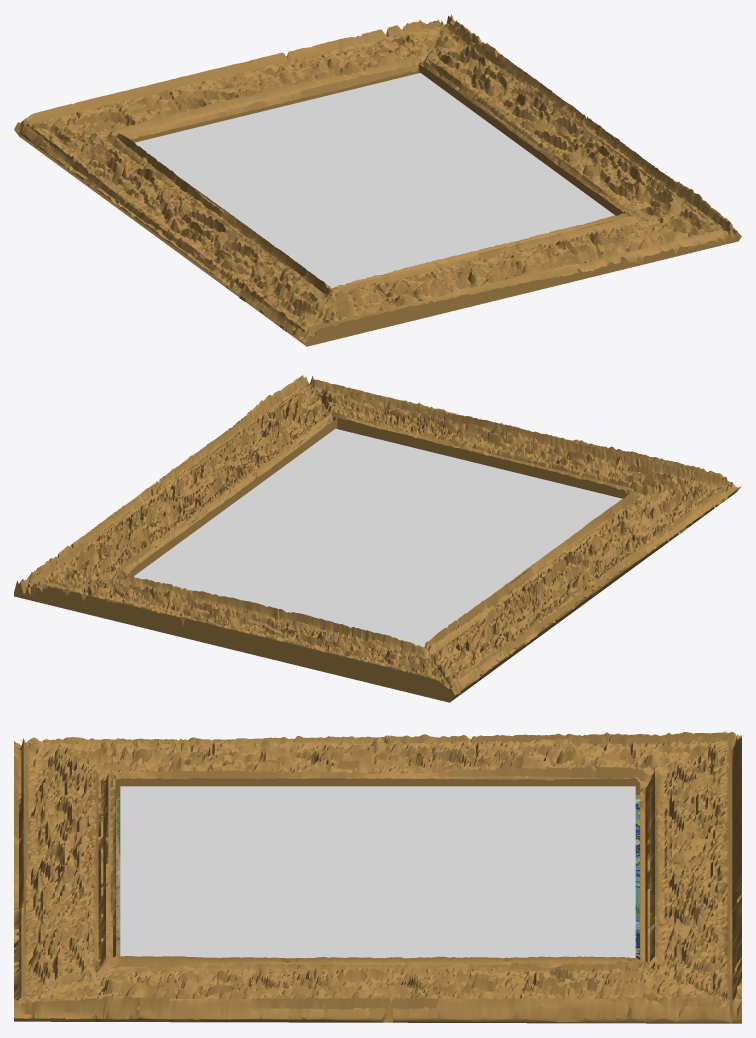
The picture shows the model from 3 angles, top to bottom: view 1: azimuth 30°, elevation 25°; view 2: azimuth 150°, elevation 25°; view 3: azimuth 270°, elevation 25°; orthographic projection. The views are drawn at different scales.
Visible parts, largest first — view 1: Shiny Sango-Amur (1)_0, Plane.002_3; view 2: Shiny Sango-Amur (1)_0, Plane.002_3; view 3: Shiny Sango-Amur (1)_0, Plane.002_3, Plane_1.
Part boxes in pixels (<box>): Shiny Sango-Amur (1)_0: <box>14,14,741,346</box>; Plane.002_3: <box>135,73,614,291</box>; Shiny Sango-Amur (1)_0: <box>14,375,741,702</box>; Plane.002_3: <box>134,428,633,646</box>; Shiny Sango-Amur (1)_0: <box>14,731,741,1023</box>; Plane.002_3: <box>120,786,635,958</box>; Plane_1: <box>116,795,639,960</box>.
Size of the model in its own units: 13.43 by 0.5997 by 15.14.
3 materials, 1 textured.
